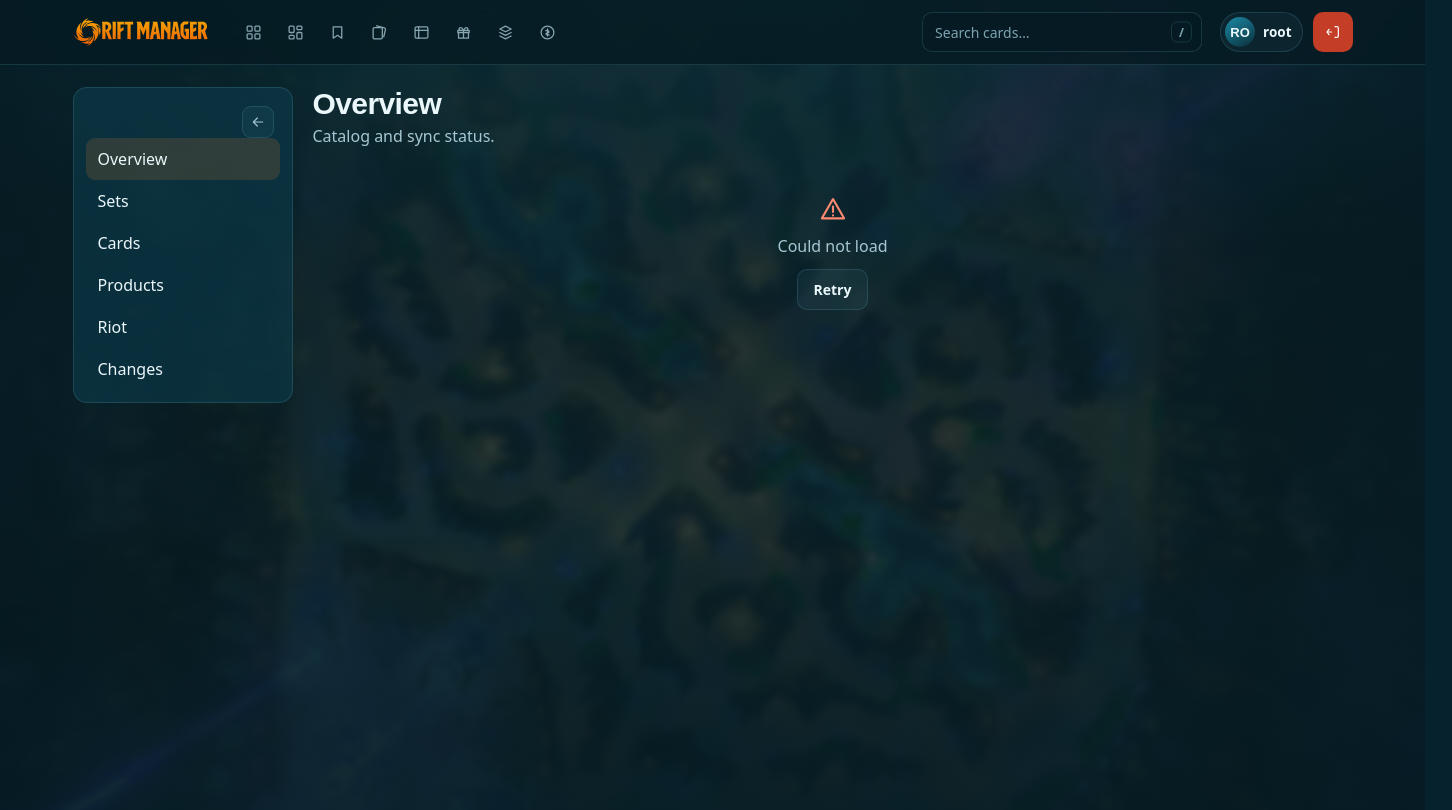
Test: OverviewPage (F13-a S6) › a failure shows the error state, and retry recovers
The width and height of the screenshot is (1452, 810).
Expected: the message "Could not load Retry" is shown, [778,195,887,310]
Click the button "Retry" at (832, 290), box [796,269,868,310]
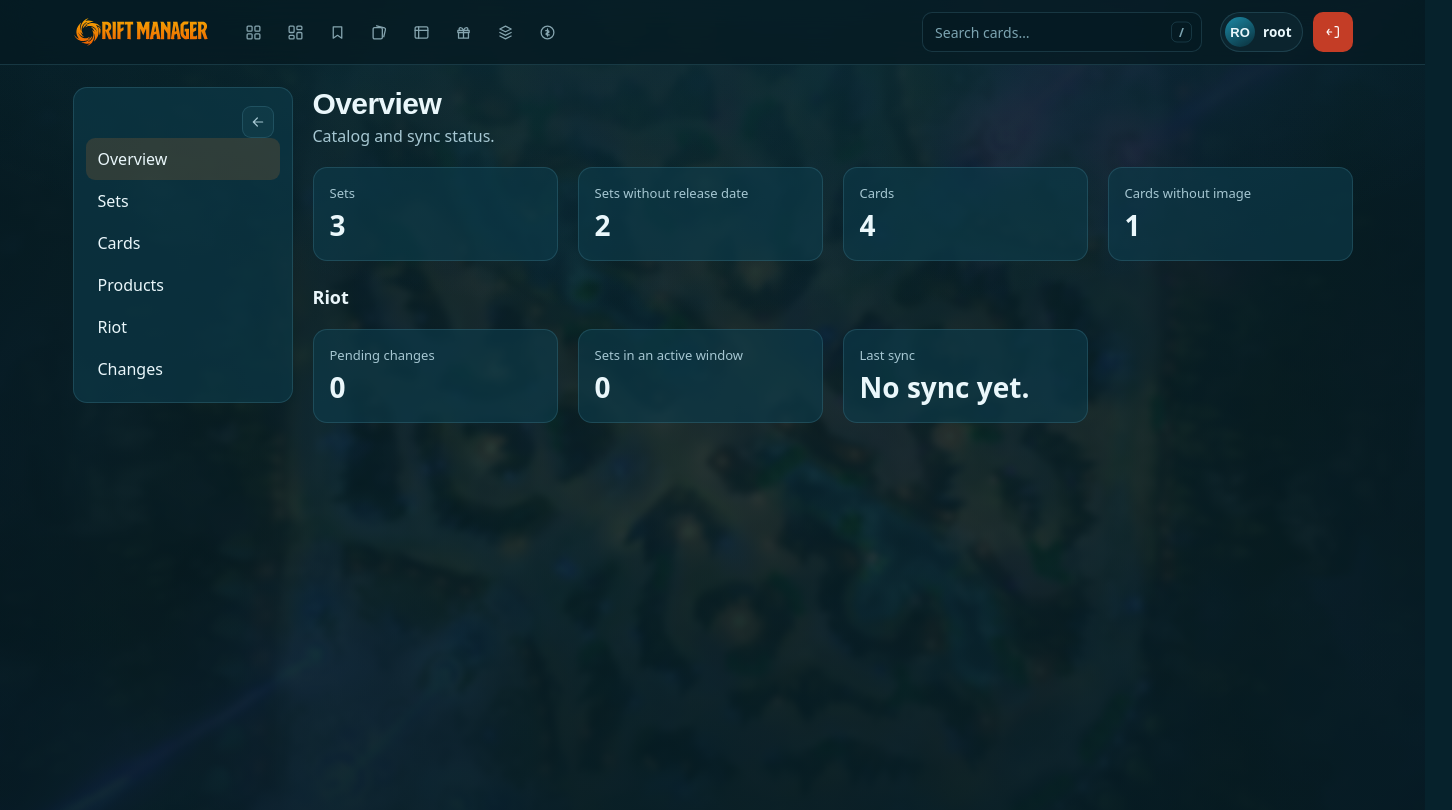
Expected: the text "Cards" is shown, [860,184,894,202]
